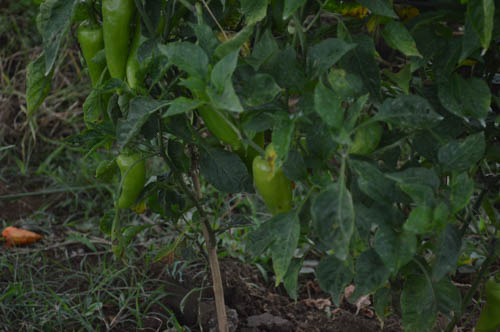ChiliPepper: (192, 86, 247, 156), (123, 15, 166, 95), (98, 1, 125, 81), (251, 157, 289, 213), (112, 154, 144, 210), (77, 29, 104, 81)
